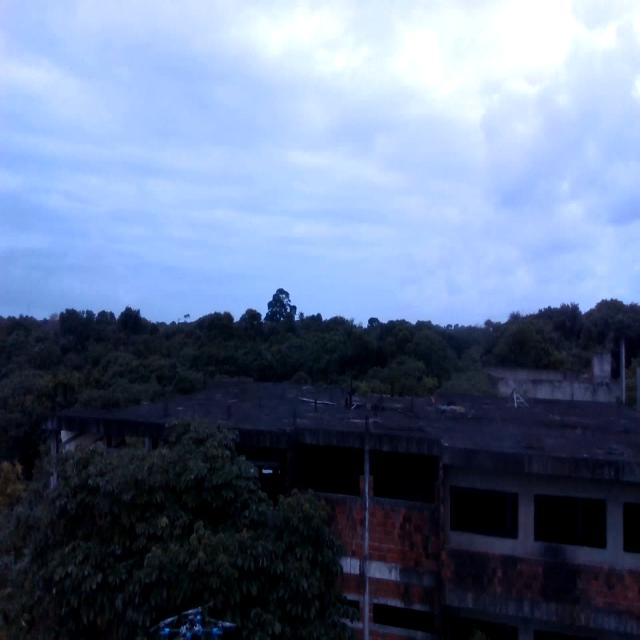-uav-: (145, 591, 247, 640)
